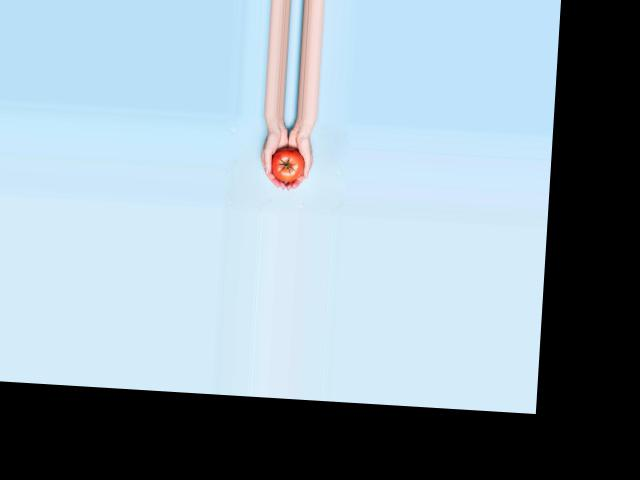tomato: (269, 146, 304, 182)
